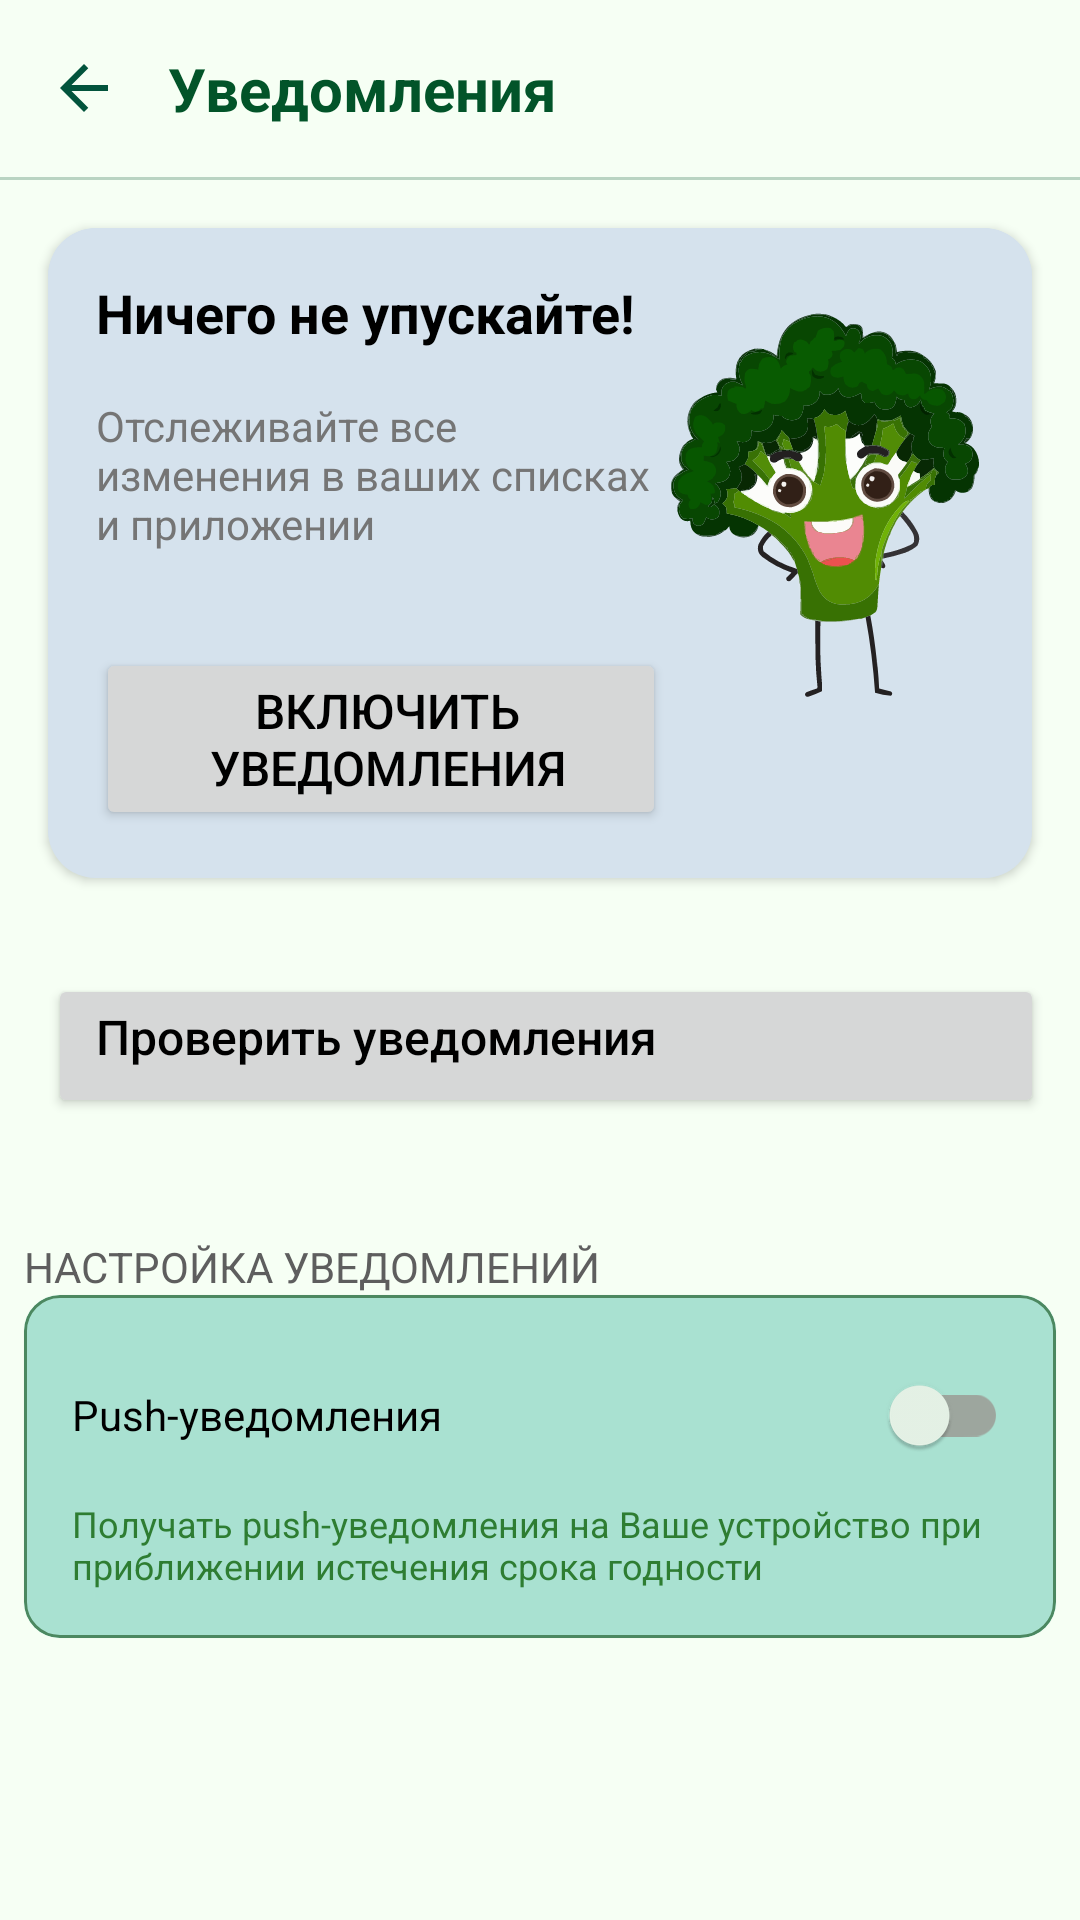

Locate icon controls on the screen. Image size 1080px x 1920px, boxes as (x1, y1, x2, y2).
back: (60, 64, 108, 112)
